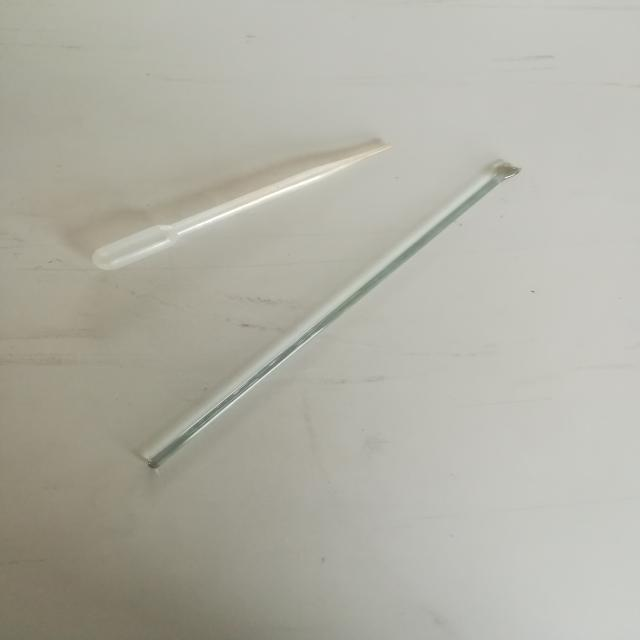Glass_Rod: (134, 138, 572, 493)
Pipette: (54, 81, 394, 291)
